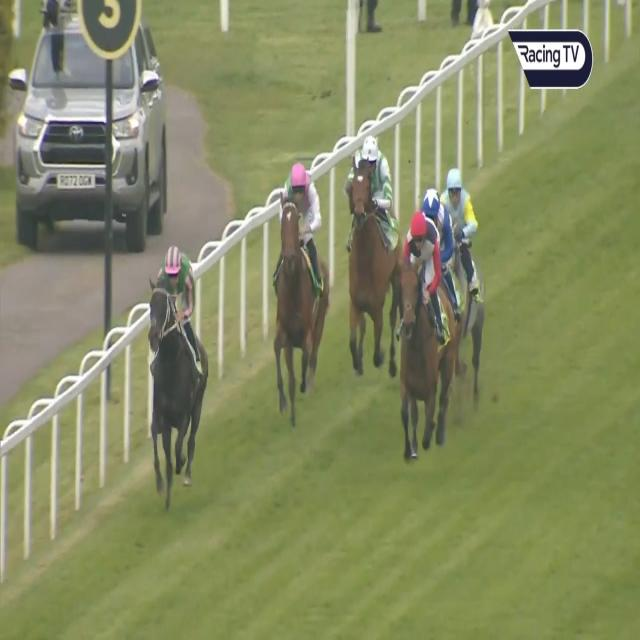horses-racing: (144, 244, 212, 486), (268, 161, 328, 402), (343, 137, 403, 365), (401, 209, 445, 469), (443, 164, 485, 396), (423, 189, 464, 413)
